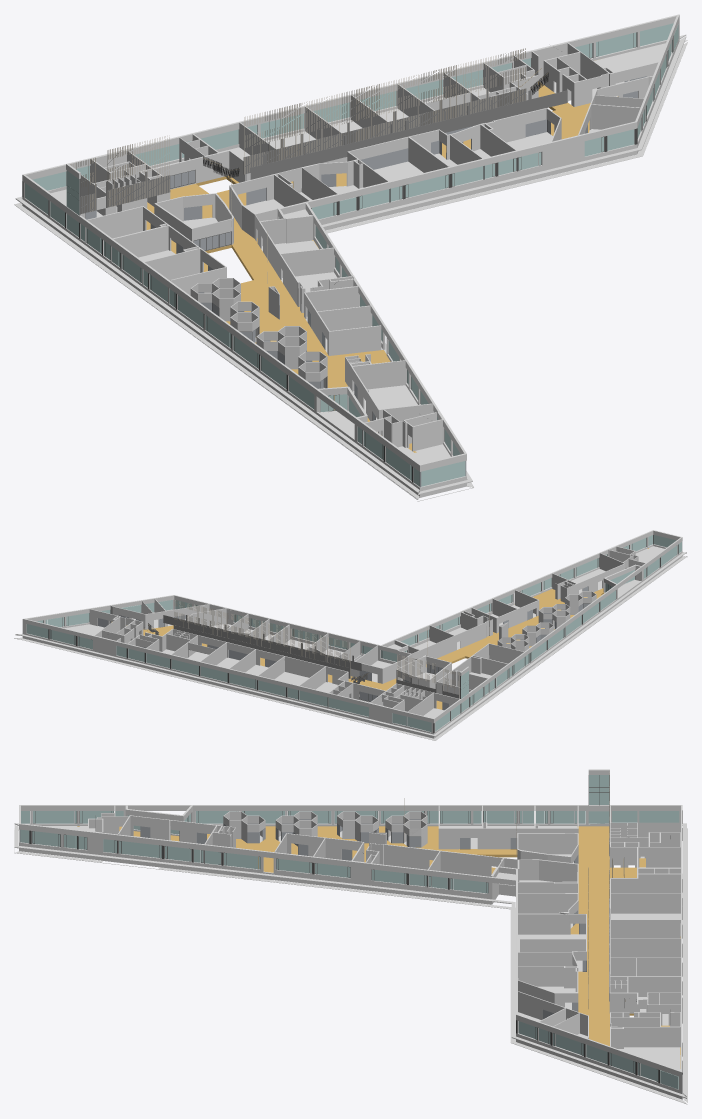
The model's file is Floor2.fbx.
The picture shows the model from 3 angles, top to bottom: view 1: azimuth 30°, elevation 25°; view 2: azimuth 150°, elevation 25°; view 3: azimuth 270°, elevation 25°; orthographic projection. The views are drawn at different scales.
Visible parts, largest first — view 1: Floor 2 - outer wall.008, Floor 2 - outer wall.016, Floor 2 - wall.004, Floor 2 - outer wall.019, Floor 2 - Glass blue.058, IfcSlab/SLA_-_079, IfcSlab/SLA_-_079.035, Floor 2 - outer wall.020, Floor 2 - outer wall, Floor 2 - wall.013, Floor 2 - wall.012, Floor 2 - Rim.002 (+39 smaller); view 2: Floor 2 - outer wall.019, Floor 2 - Glass blue.058, Floor 2 - outer wall.020, Floor 2 - outer wall.016, IfcSlab/SLA_-_079, Floor 2 - outer wall.008, Floor 2 - outer wall, Floor 2 - wall.004, Floor 2 - Rim.004, Floor 2 - Rim.006, Floor 2 - wall.007, Floor 2 - wall.012 (+33 smaller); view 3: Floor 2.002, Floor 2 - outer wall.016, Floor 2 - outer wall.005, Floor 2 - outer wall.020, Floor 2 - outer wall, Floor 2.007, Floor 2 - Rim.007, Floor 2 - Rim.001, Floor 2 - outer wall.015, Floor 2 - wall.036, Floor 2 - wall.007, Floor 2 - wall.005 (+40 smaller).
Part boxes in pixels (x1,y1,x2,y2): Floor 2 - outer wall.008: (277, 134, 582, 243); Floor 2 - outer wall.016: (79, 215, 317, 420); Floor 2 - wall.004: (304, 286, 381, 355); Floor 2 - outer wall.019: (127, 50, 531, 168); Floor 2 - Glass blue.058: (135, 58, 530, 165); IfcSlab/SLA_-_079: (250, 90, 567, 179); IfcSlab/SLA_-_079.035: (243, 88, 526, 174); Floor 2 - outer wall.020: (568, 14, 679, 167); Floor 2 - outer wall: (316, 386, 466, 497); Floor 2 - wall.013: (87, 206, 168, 257); Floor 2 - wall.012: (578, 76, 652, 135); Floor 2 - Rim.002: (15, 198, 419, 493); Floor 2 - outer wall.019: (116, 641, 369, 722); Floor 2 - Glass blue.058: (116, 646, 368, 716); Floor 2 - outer wall.020: (22, 595, 207, 655); Floor 2 - outer wall.016: (469, 584, 617, 712); IfcSlab/SLA_-_079: (163, 615, 361, 670); Floor 2 - outer wall.008: (208, 603, 408, 663); Floor 2 - outer wall: (603, 530, 682, 603); Floor 2 - wall.004: (471, 590, 539, 633); Floor 2 - Rim.004: (15, 634, 435, 736); Floor 2 - Rim.006: (14, 638, 435, 740); Floor 2 - wall.007: (403, 623, 485, 664); Floor 2 - wall.012: (110, 599, 209, 629); Floor 2.002: (491, 858, 680, 1026); Floor 2 - outer wall.016: (192, 805, 588, 826); Floor 2 - outer wall.005: (87, 831, 273, 879); Floor 2 - outer wall.020: (516, 992, 682, 1099); Floor 2 - outer wall: (19, 805, 192, 858); Floor 2.007: (449, 826, 636, 883); Floor 2 - Rim.007: (14, 830, 687, 1104); Floor 2 - Rim.001: (14, 825, 515, 1012); Floor 2 - outer wall.015: (371, 863, 515, 904); Floor 2 - wall.036: (438, 805, 578, 849); Floor 2 - wall.007: (440, 851, 538, 880); Floor 2 - wall.005: (517, 833, 578, 863).
Size of the model in its own units: 12075 by 1667 by 12527.
